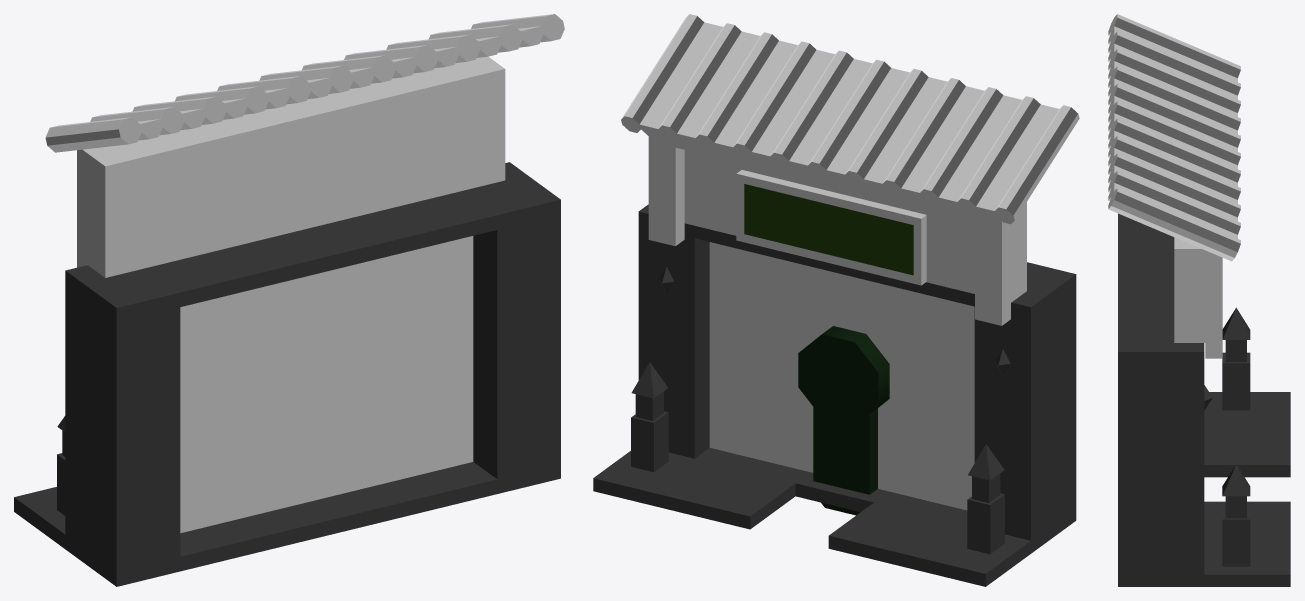
Rendered from darkness_level_gate2.FBX.
3 views of the same model, side by side, from view 1: azimuth 30°, elevation 25°; view 2: azimuth 150°, elevation 25°; view 3: azimuth 270°, elevation 25° (orthographic). The views are drawn at different scales.
Visible parts, largest first — view 1: Object058, Box099, Object059, Object054, Object056; view 2: Box099, Object058, Object059, Object054, Box100, Cylinder001, Object056, Object055; view 3: Object058, Box099, Object056, Object055.
Boxes of the visible parts, box(x1,y1,x2,y2) form: Object058: box(14, 162, 560, 586); Box099: box(45, 14, 564, 277); Object059: box(315, 236, 473, 500); Object054: box(180, 274, 314, 533); Object056: box(57, 416, 65, 515); Box099: box(621, 14, 1079, 325); Object058: box(593, 204, 1076, 586); Object059: box(709, 242, 849, 472); Object054: box(850, 276, 974, 510); Box100: box(736, 170, 926, 285); Cylinder001: box(798, 326, 889, 515); Object056: box(967, 444, 1004, 554); Object055: box(631, 362, 668, 472); Object058: box(1118, 213, 1290, 586); Box099: box(1108, 14, 1240, 358); Object056: box(1222, 307, 1250, 410); Object055: box(1222, 464, 1250, 566).
Size of the model in its own units: 50 by 51.48 by 21.11.
